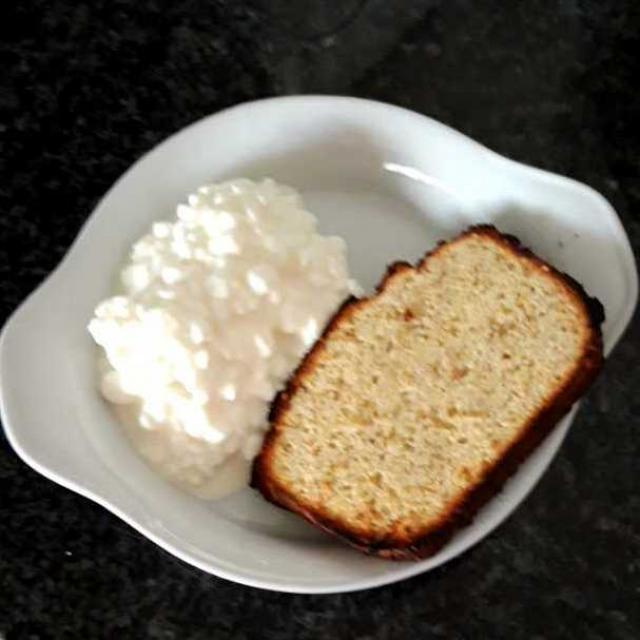bread: (244, 214, 618, 552)
cheese: (97, 162, 358, 496)
